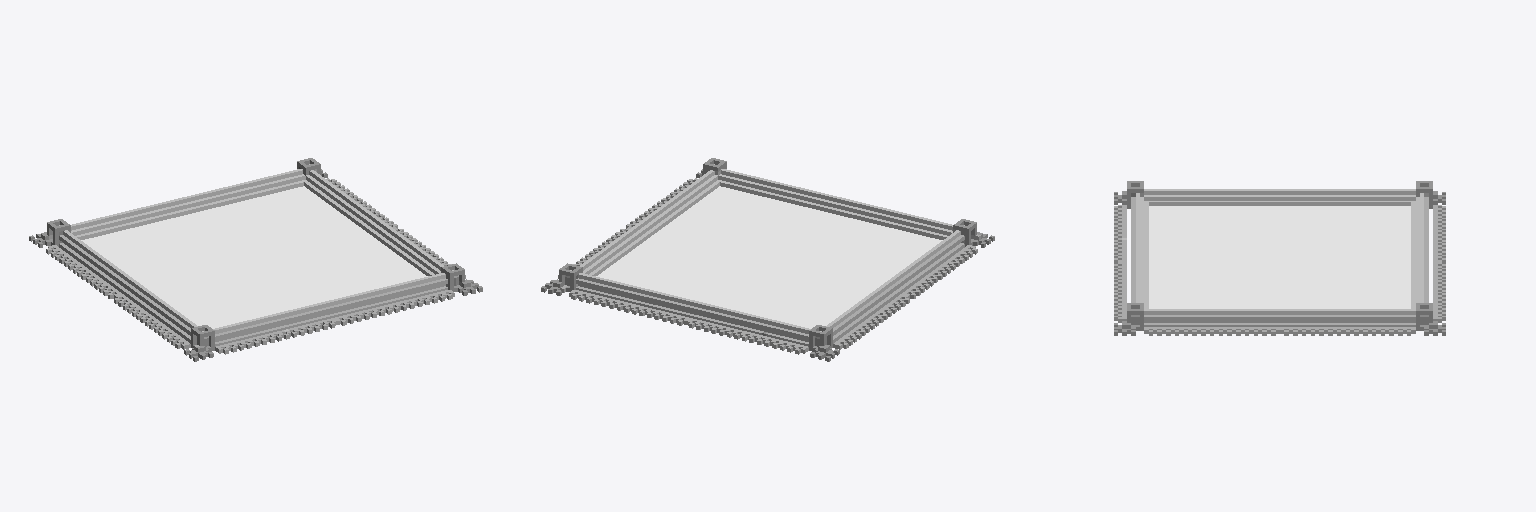
3 renders of one model, left to right at view 1: azimuth 30°, elevation 25°; view 2: azimuth 150°, elevation 25°; view 3: azimuth 270°, elevation 25°, orthographic.
Size of the model in its own units: 76 by 5 by 76.
1 materials, 1 textured.